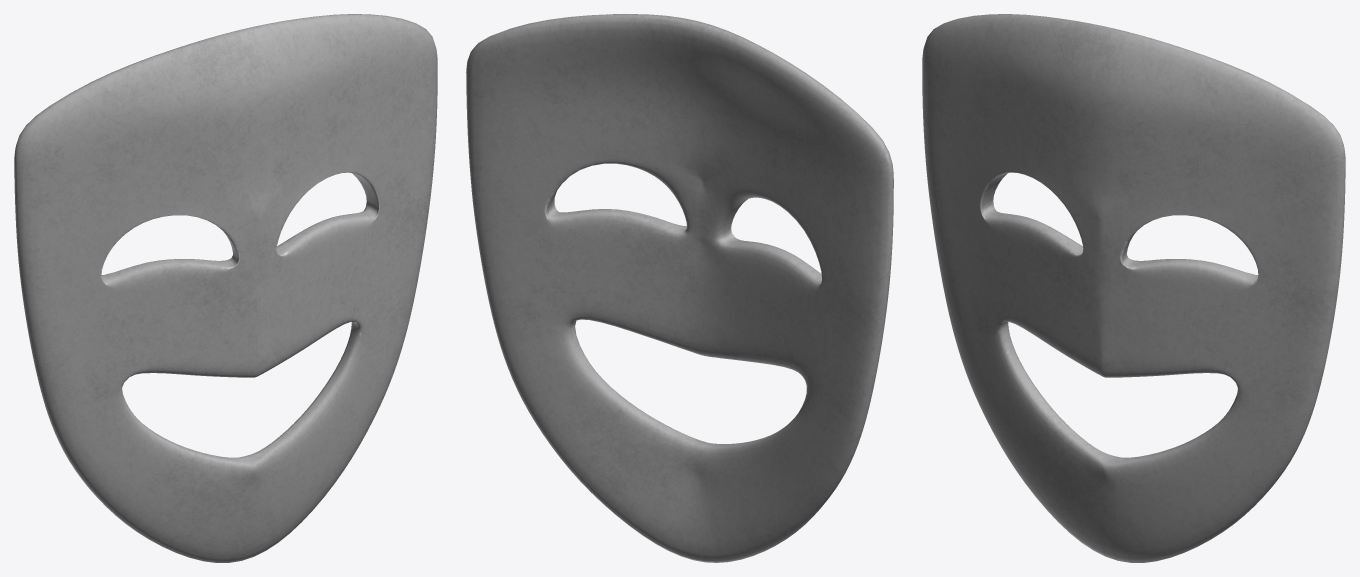
File: simple_comedy_mask.glb
3 views of the same model, side by side, from view 1: azimuth 30°, elevation 25°; view 2: azimuth 150°, elevation 25°; view 3: azimuth 330°, elevation 25° (orthographic).
Parts seen in each view (by area): view 1: polySurface5; view 2: polySurface5; view 3: polySurface5.
Part boxes in pixels (x1,y1,x2,y2): polySurface5: (14,14,437,562); polySurface5: (466,14,893,562); polySurface5: (922,14,1345,562).
Bounding box in the file's own units: 1.18 × 1.42 × 0.181.
Materials: 1 (1 with a texture image).
